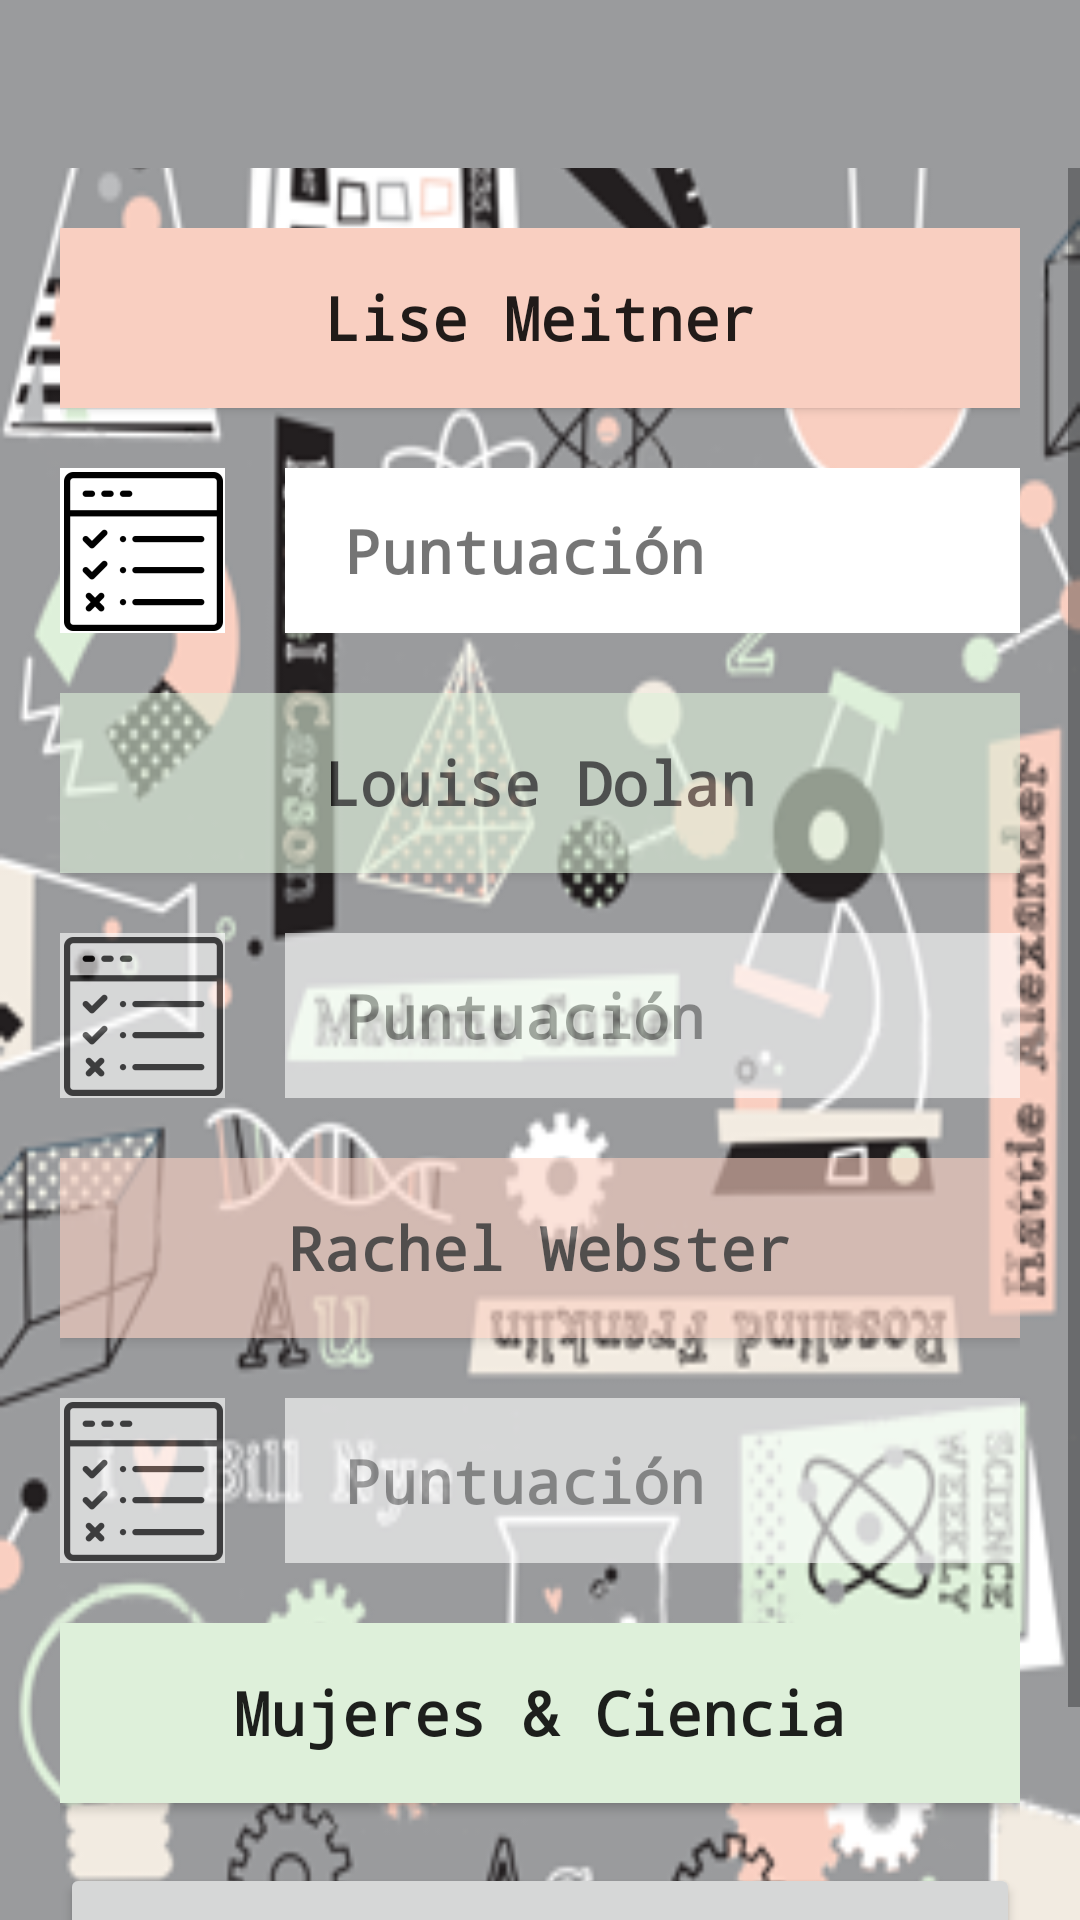

Where to tap for icons on this 1080px×1920px app screen, as (x=x, y=y):
autoevaluacion: (x=142, y=550), (x=142, y=1015), (x=142, y=1480)
